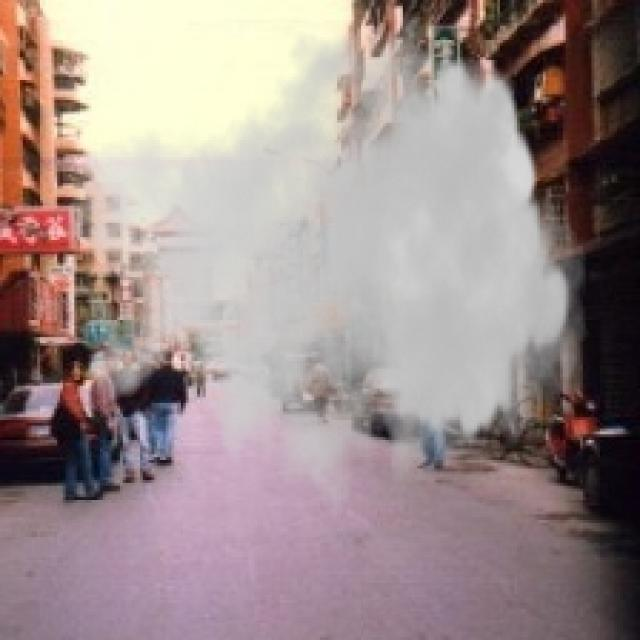smoke: (66, 3, 588, 546)
